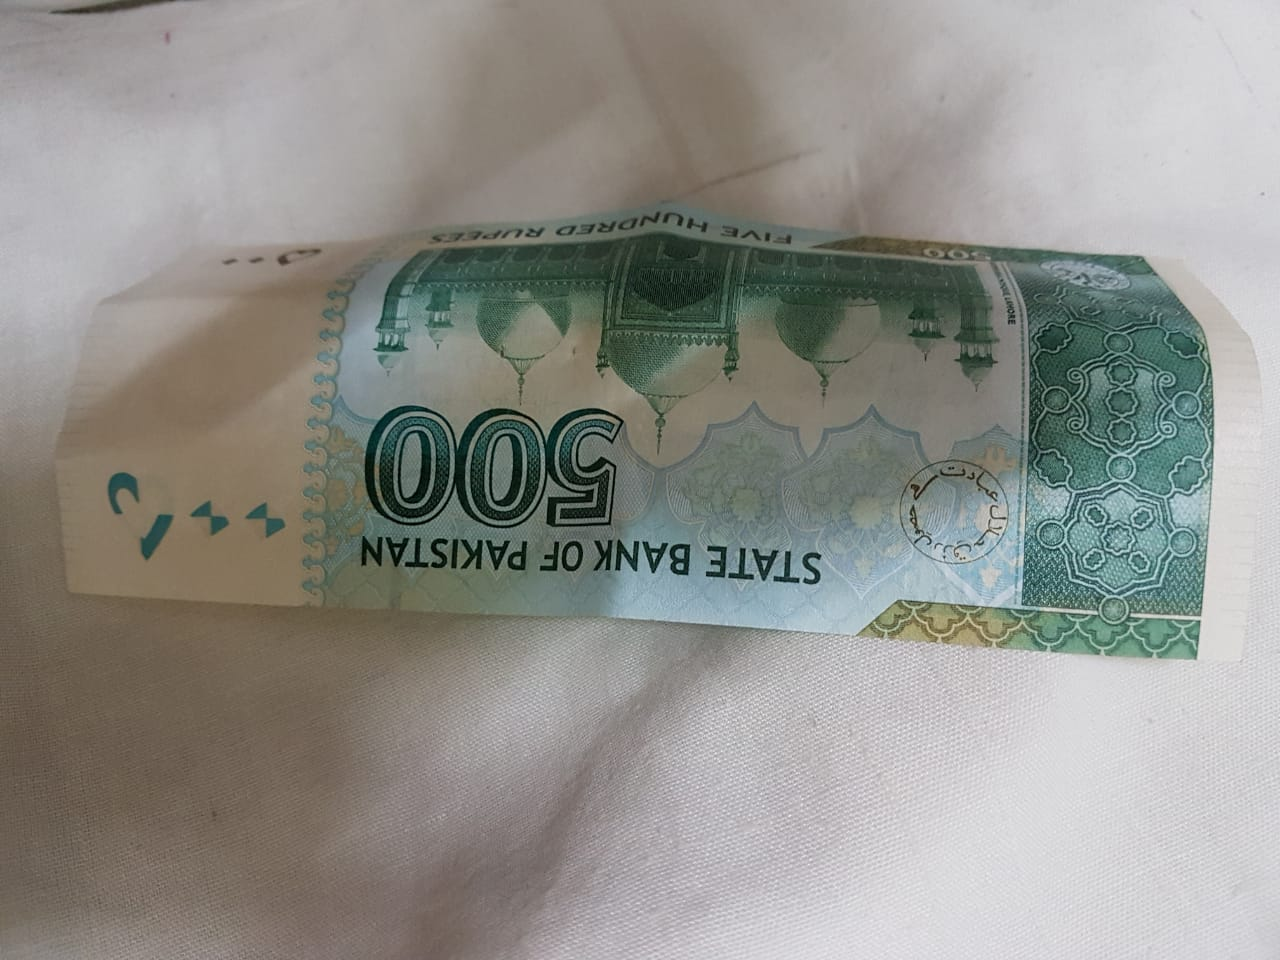500 rupee: (27, 208, 1243, 682)
